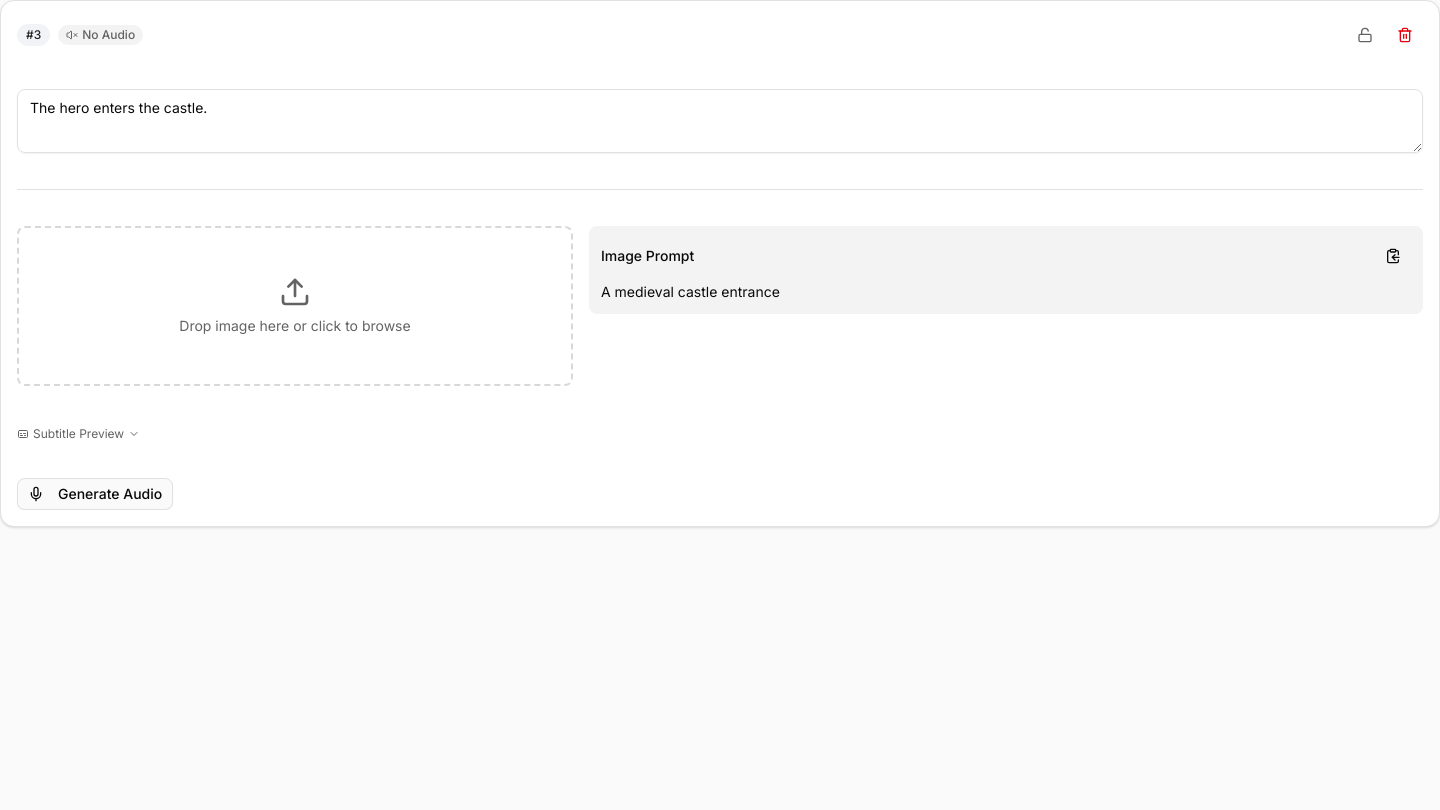
Scenario: SegmentCard › delete button opens confirmation dialog
The image size is (1440, 810).
Click the 2nd button.
click(1405, 35)  # box [1387,17,1423,53]
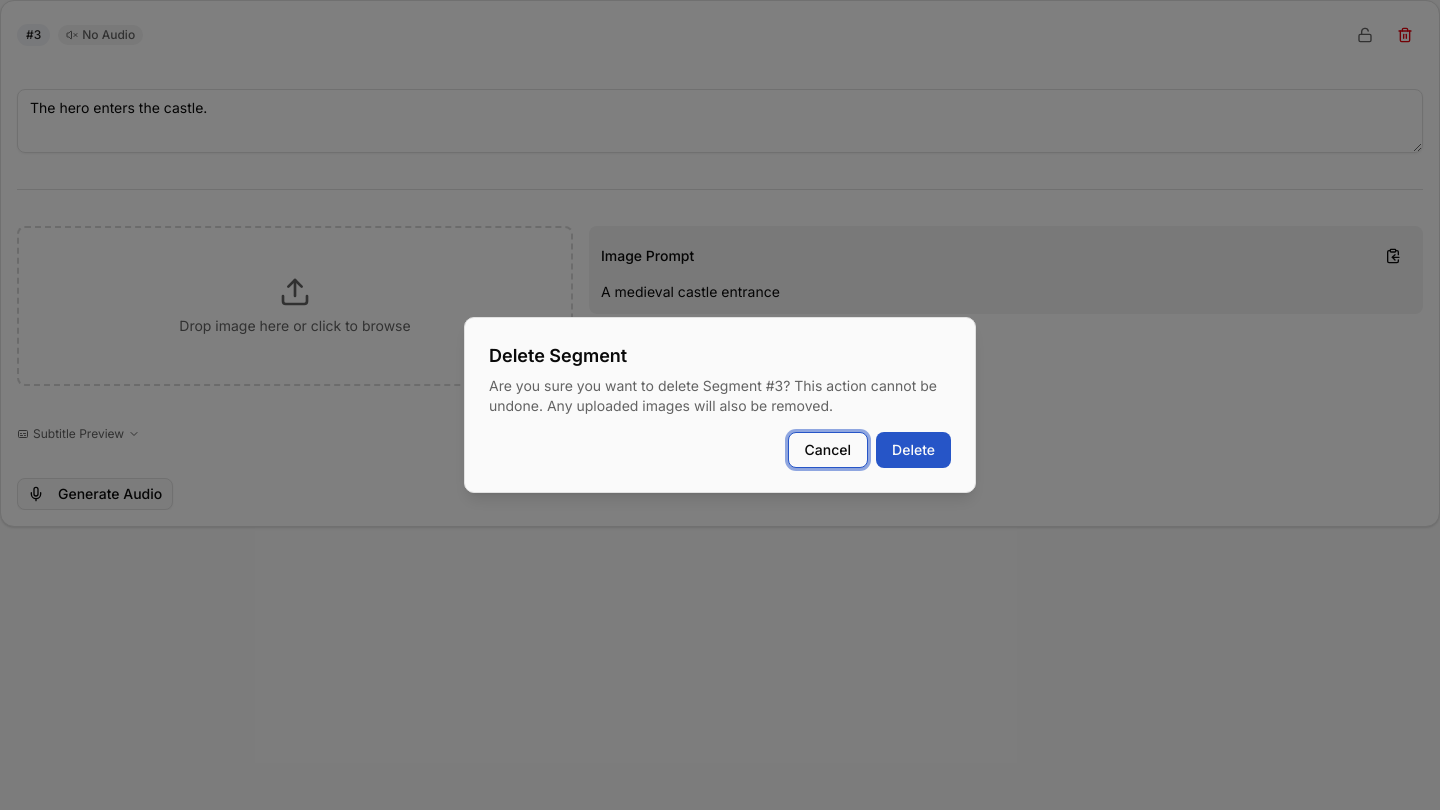
Expected: the heading "Delete Segment" is shown, [489,342,627,370]
Expected: the text "Are you sure you want to delete Segment #3" is shown, [489,376,951,416]
